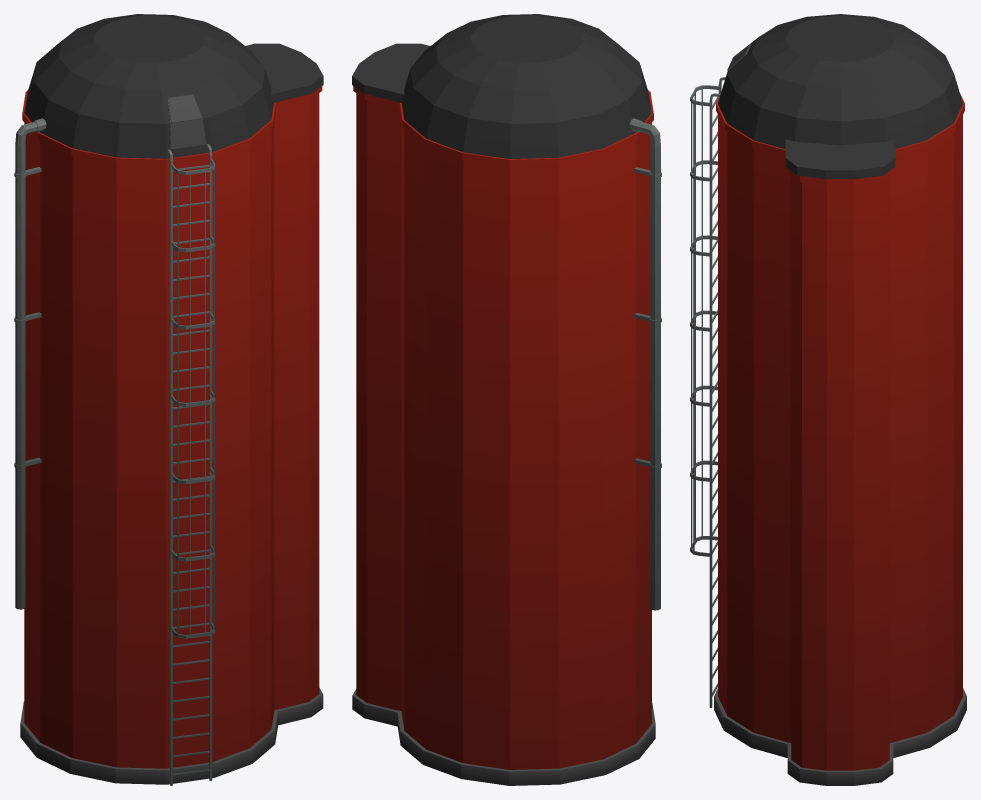
File: Bld_Silo_01.obj
3 renders of one model, left to right at view 1: azimuth 30°, elevation 25°; view 2: azimuth 150°, elevation 25°; view 3: azimuth 270°, elevation 25°, orthographic. The views are drawn at different scales.
Parts seen in each view (by area): view 1: Bld_Silo_01; view 2: Bld_Silo_01; view 3: Bld_Silo_01.
Part boxes in pixels (x1,y1,x2,y2): Bld_Silo_01: (14,14,323,785); Bld_Silo_01: (352,14,661,785); Bld_Silo_01: (690,14,966,785).
Size of the model in its own units: 6.73 by 15.1 by 5.65.
Materials: 1 (1 with a texture image).
